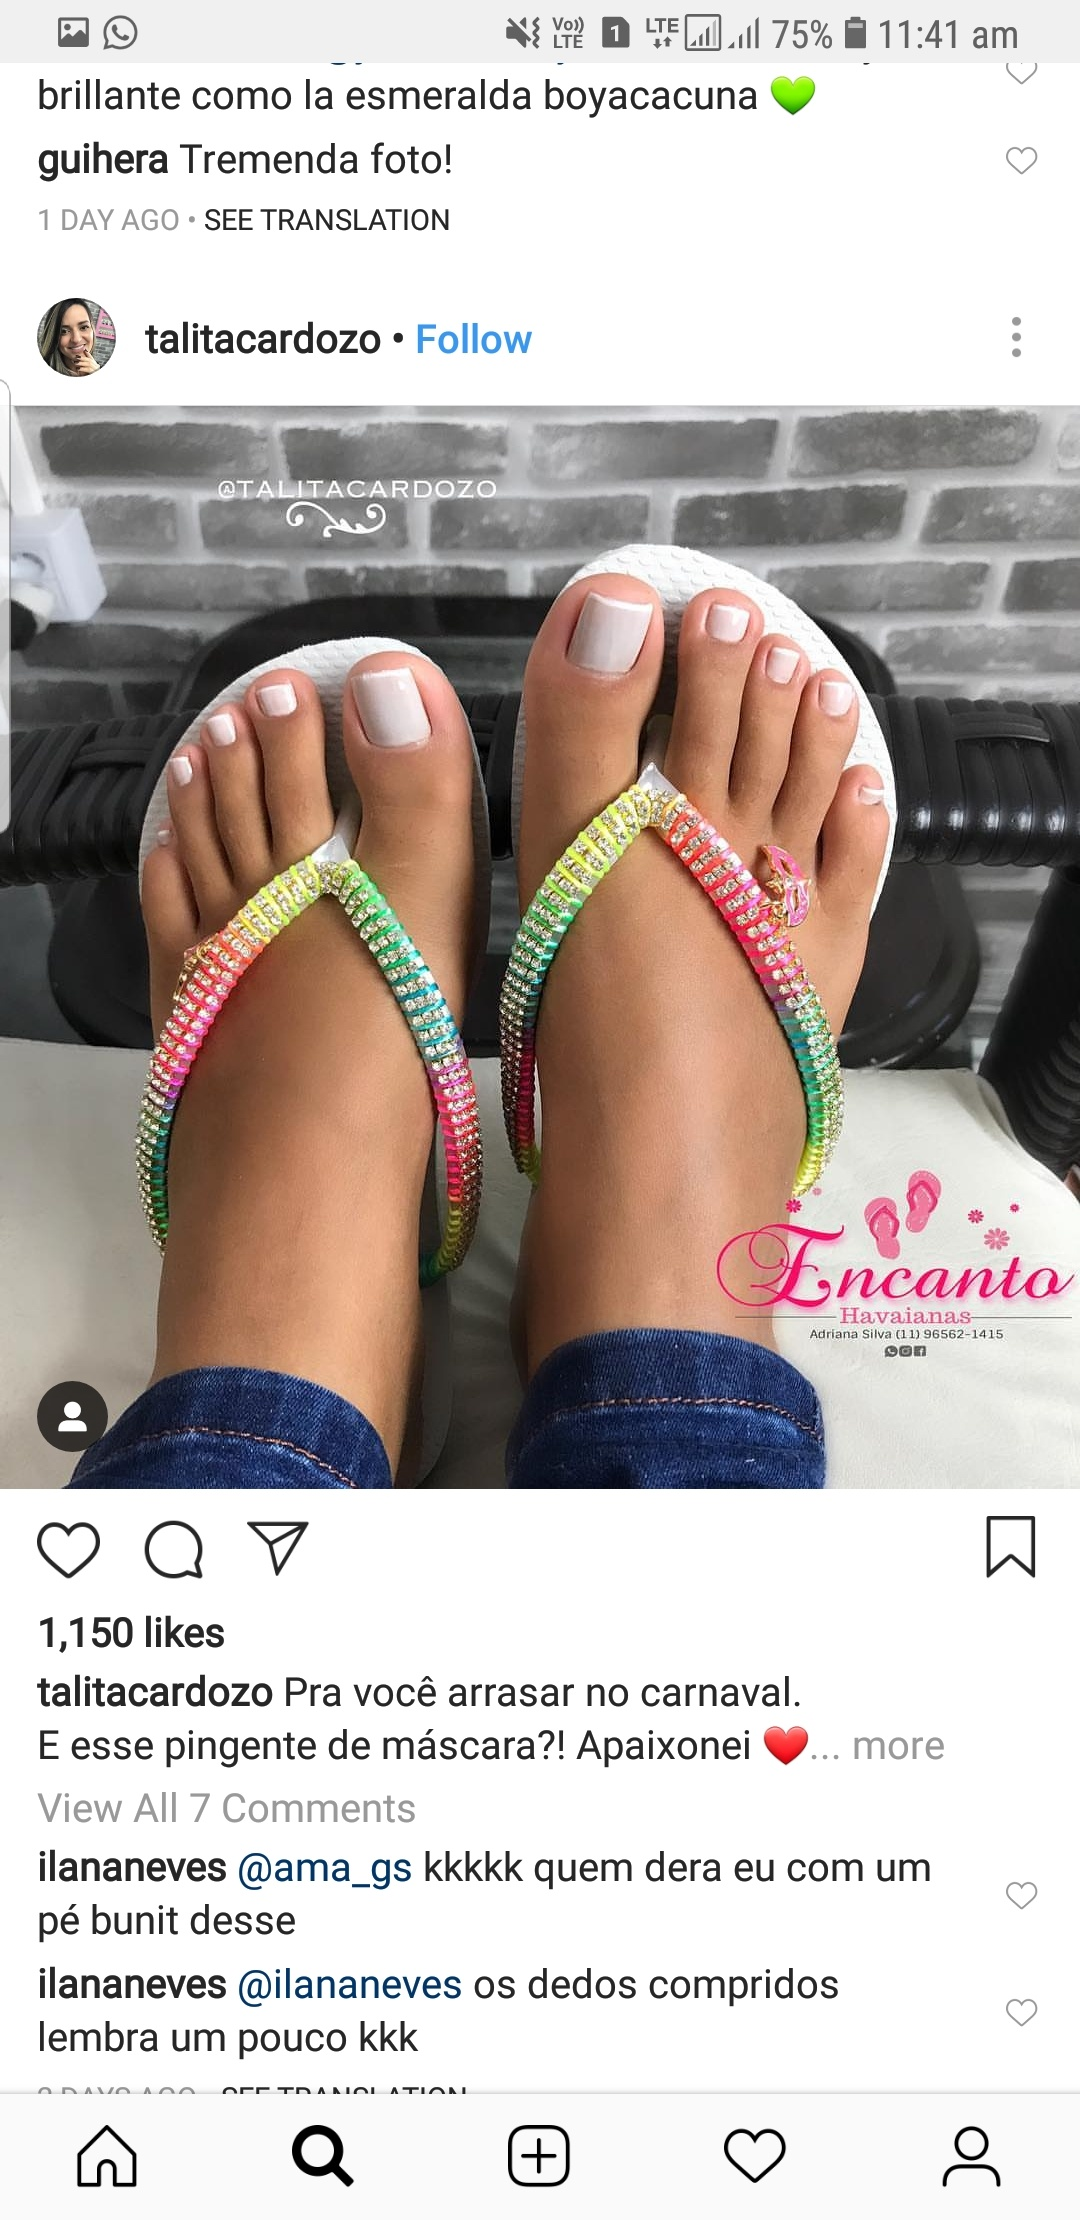feet: (478, 481, 912, 1322), (76, 631, 491, 1395)
